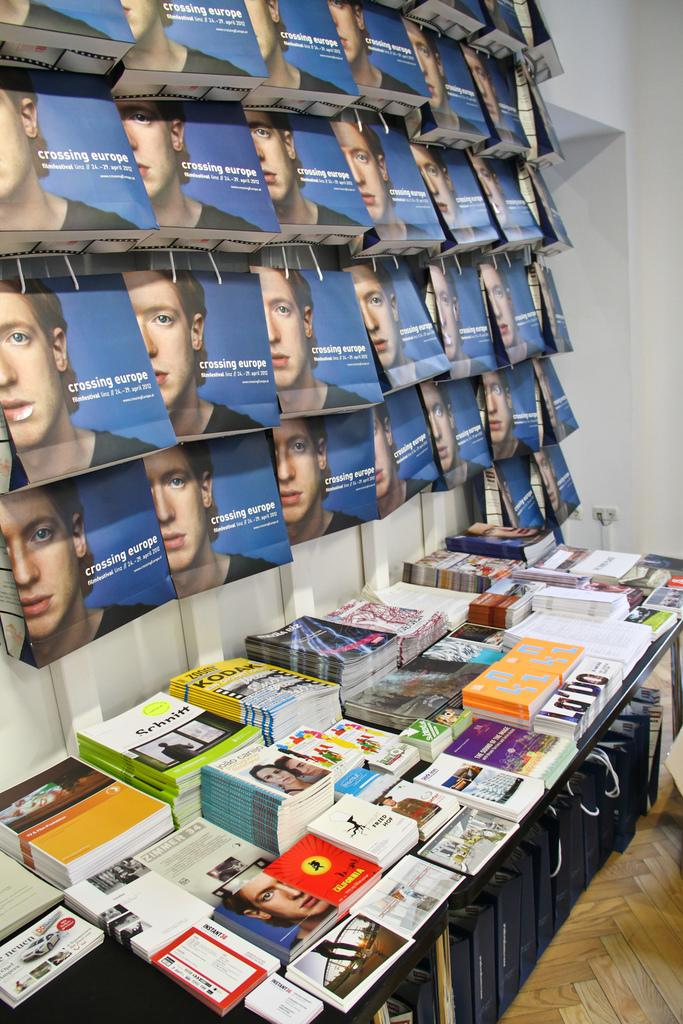Sem Máscara: (115, 262, 188, 405), (5, 496, 77, 634), (0, 291, 58, 443), (141, 439, 206, 561), (247, 262, 307, 388), (331, 262, 397, 369), (326, 102, 383, 221), (265, 407, 318, 520), (118, 90, 175, 193), (237, 95, 290, 200), (227, 868, 328, 920), (408, 133, 456, 231), (0, 80, 31, 205), (402, 13, 438, 113), (474, 258, 514, 347), (463, 38, 502, 127), (132, 121, 177, 192), (419, 379, 452, 474), (467, 148, 505, 227), (428, 262, 455, 363), (242, 0, 279, 61), (326, 0, 363, 61), (371, 401, 393, 499), (484, 367, 510, 447), (116, 0, 159, 37)
